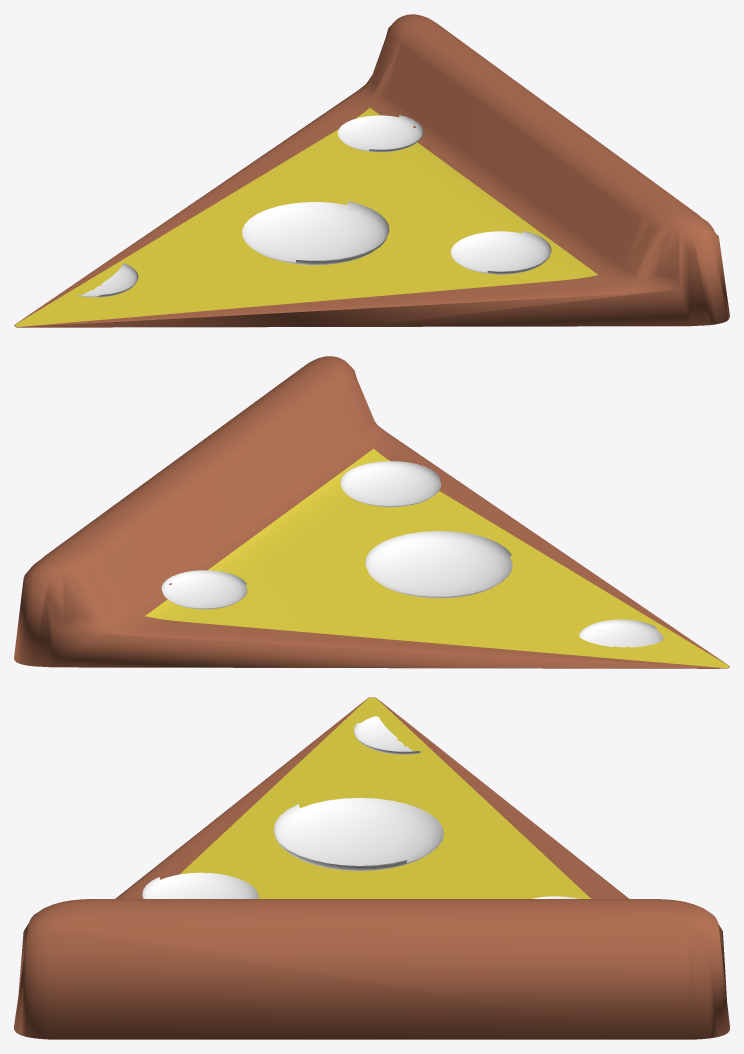
File: pizzaSlice.fbx
3 views of the same model, one above another, from view 1: azimuth 30°, elevation 25°; view 2: azimuth 150°, elevation 25°; view 3: azimuth 270°, elevation 25° (orthographic). The views are drawn at different scales.
Visible parts, largest first — view 1: Cube; view 2: Cube; view 3: Cube.
Part boxes in pixels (bbox=[...]): Cube: bbox=[14, 14, 729, 327]; Cube: bbox=[14, 356, 729, 668]; Cube: bbox=[14, 697, 729, 1039].
Size of the model in its own units: 98.87 by 16.65 by 93.2.
